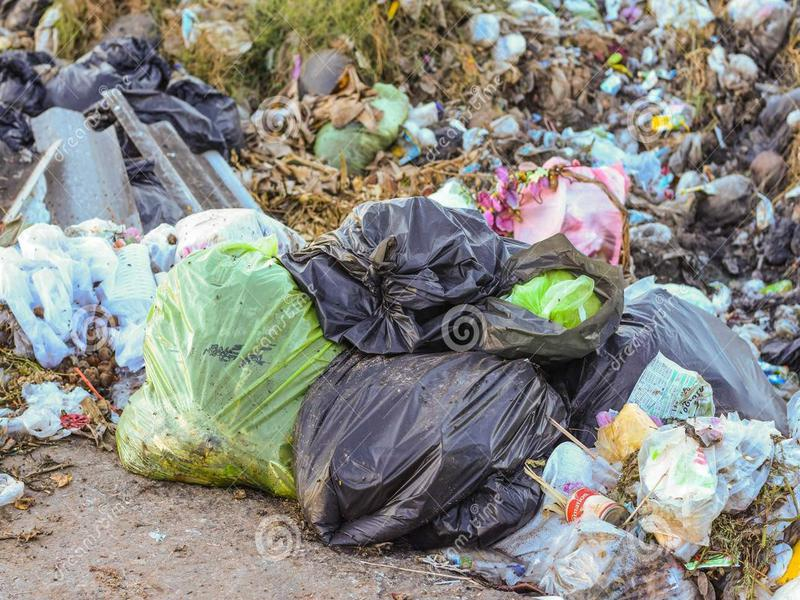plastic: (111, 235, 340, 499), (293, 348, 571, 562), (277, 194, 513, 361), (570, 284, 797, 439), (47, 29, 247, 153), (497, 227, 627, 372), (1, 220, 122, 368), (527, 518, 715, 600), (637, 408, 774, 515), (1, 378, 101, 446)
